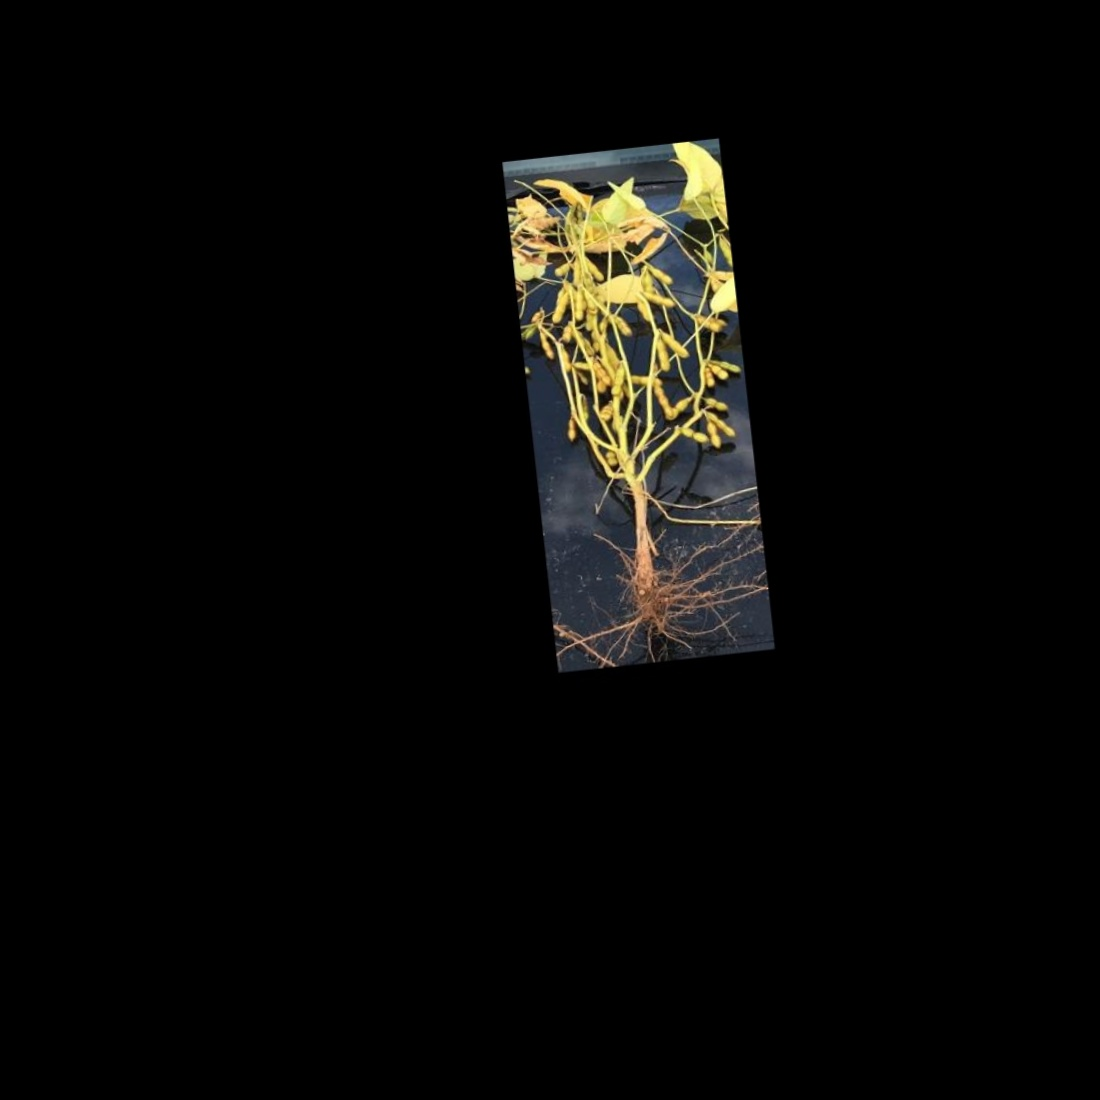pod: (649, 380, 675, 421), (547, 295, 573, 329), (625, 368, 664, 390), (675, 424, 709, 447), (651, 336, 672, 374), (647, 262, 674, 286), (702, 418, 722, 449), (634, 295, 654, 326), (612, 313, 634, 339), (703, 394, 730, 413), (563, 414, 578, 446), (551, 261, 572, 279), (699, 364, 714, 389)
soy: (507, 150, 762, 649)
